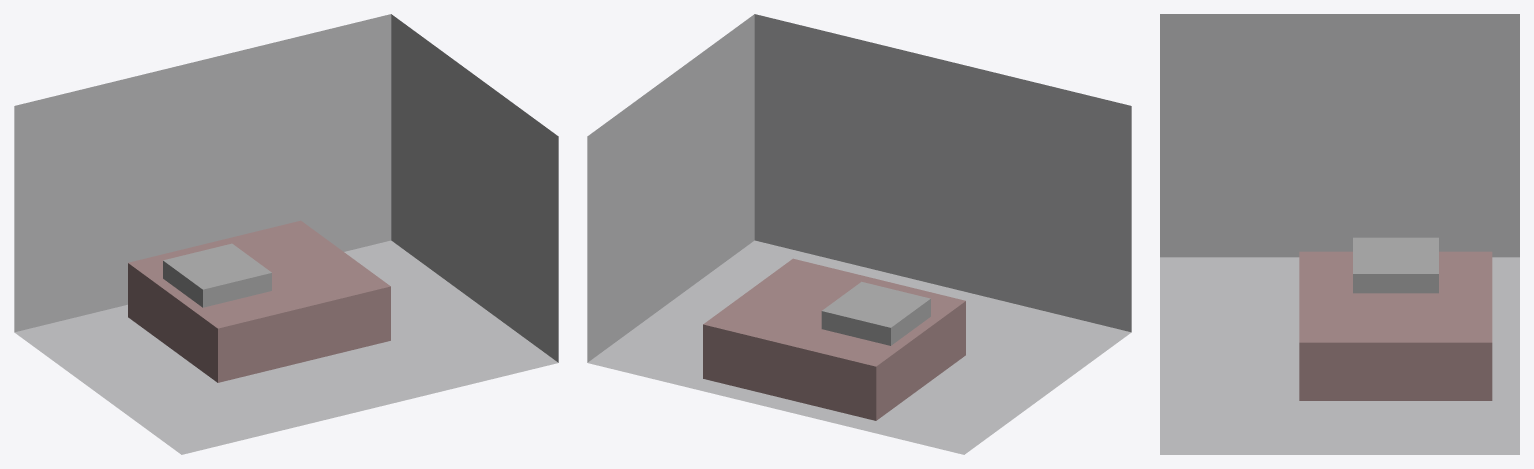
File: current_layout.glb
3 views of the same model, side by side, from view 1: azimuth 30°, elevation 25°; view 2: azimuth 150°, elevation 25°; view 3: azimuth 270°, elevation 25° (orthographic). The views are drawn at different scales.
Visible parts, largest first — view 1: room, bed, studyTable; view 2: room, bed, studyTable; view 3: room, bed, studyTable.
Part boxes in pixels (<box>): room: <box>14,14,558,454</box>; bed: <box>128,220,390,382</box>; studyTable: <box>163,243,271,307</box>; room: <box>587,14,1131,454</box>; bed: <box>703,258,965,420</box>; studyTable: <box>821,281,930,345</box>; room: <box>1160,14,1519,454</box>; bed: <box>1299,251,1492,400</box>; studyTable: <box>1353,237,1438,293</box>.
Bounding box in the file's own units: 4.36 × 2.5 × 3.35.
